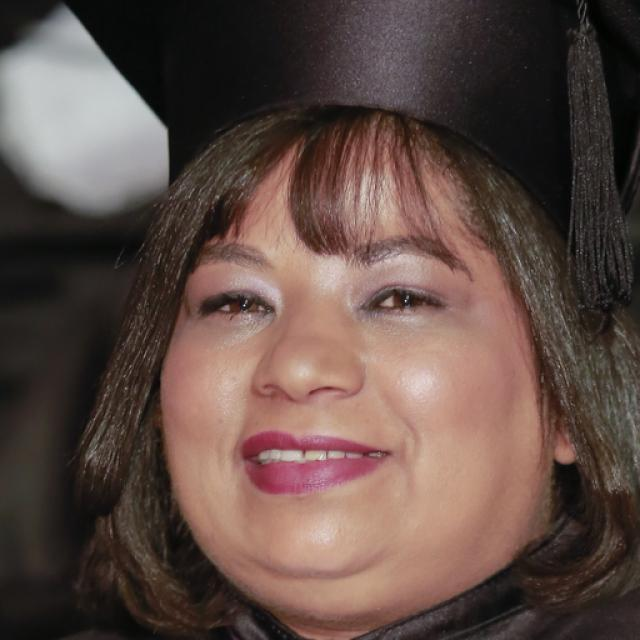0_rostro_limpio: (161, 116, 581, 622)
